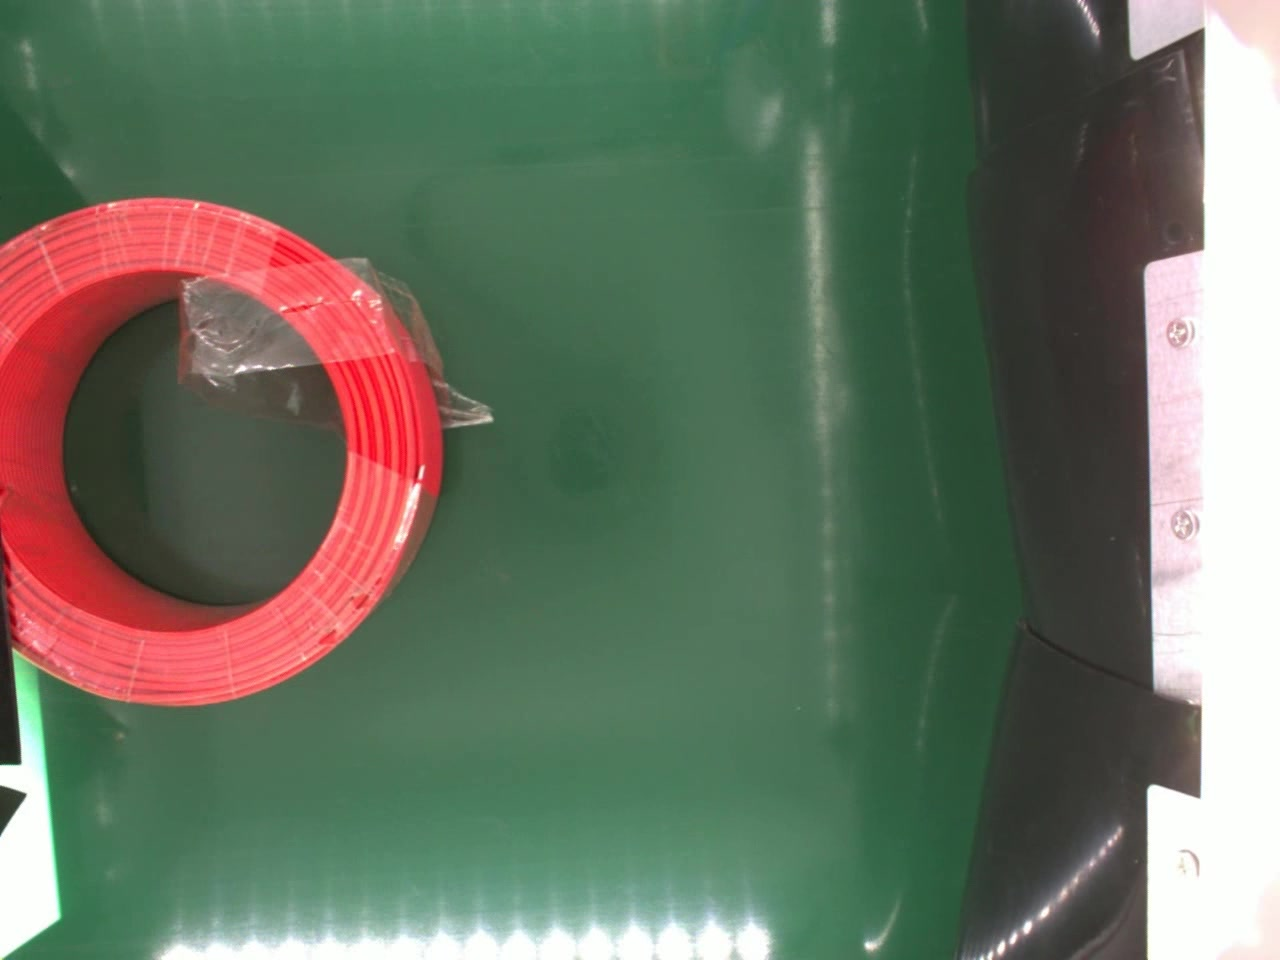red: (0, 192, 451, 711)
